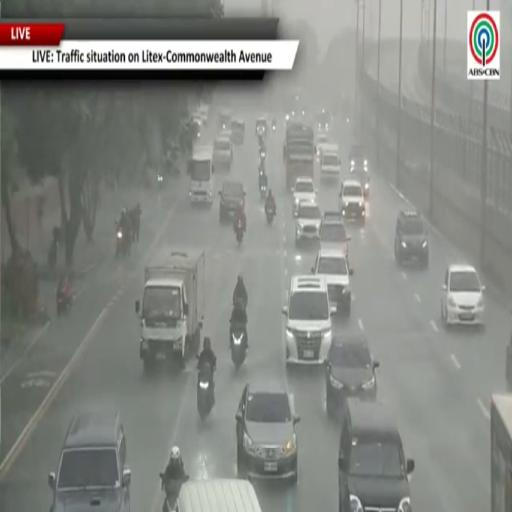bus: (491, 394, 511, 511)
car: (339, 398, 414, 511), (48, 412, 131, 511), (236, 380, 299, 483), (283, 275, 335, 364), (325, 333, 379, 414), (163, 478, 261, 511), (312, 248, 353, 315), (441, 265, 485, 326), (394, 211, 428, 268), (320, 212, 350, 260), (339, 180, 365, 225), (295, 202, 321, 245), (349, 144, 369, 197), (219, 181, 245, 221), (292, 178, 317, 217), (320, 144, 341, 177), (213, 135, 233, 169), (349, 168, 369, 199), (349, 144, 368, 171), (316, 134, 330, 162), (316, 109, 332, 132), (231, 119, 245, 145), (218, 110, 232, 130), (255, 117, 268, 136), (198, 104, 209, 125), (218, 127, 232, 142)
motorcycle: (160, 473, 188, 511), (197, 364, 214, 420), (231, 324, 247, 369), (57, 285, 73, 316), (116, 223, 130, 258), (265, 204, 275, 225), (236, 219, 243, 245), (157, 174, 164, 189), (260, 184, 267, 199), (260, 149, 266, 161), (259, 163, 264, 177), (272, 121, 276, 132)
truck: (136, 251, 205, 371), (284, 121, 315, 190), (188, 147, 214, 205)
